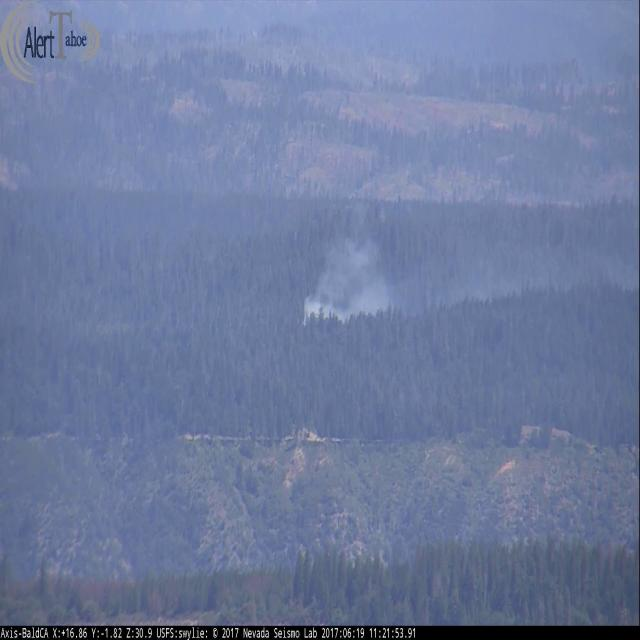smoke: (296, 188, 634, 328)
